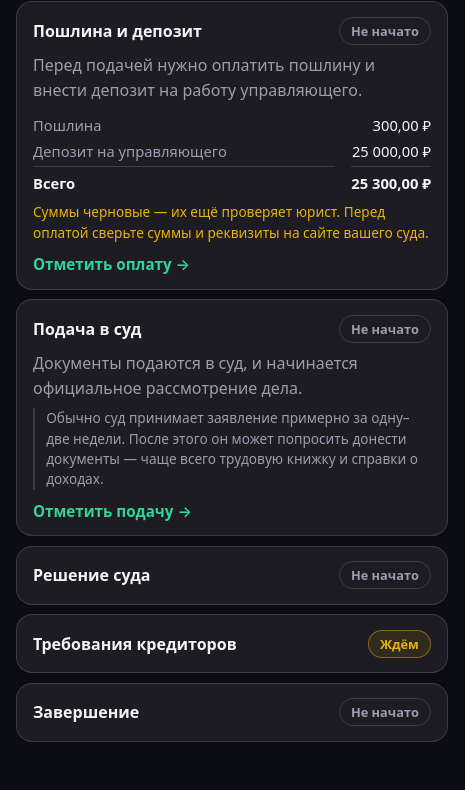
Test case: ProcedurePage › records a stage on the device and re-renders with the new status
(page scrolled)
Click the button "Решение суда Не начато" at [92, 575], box [33,561,431,589]
(page scrolled)
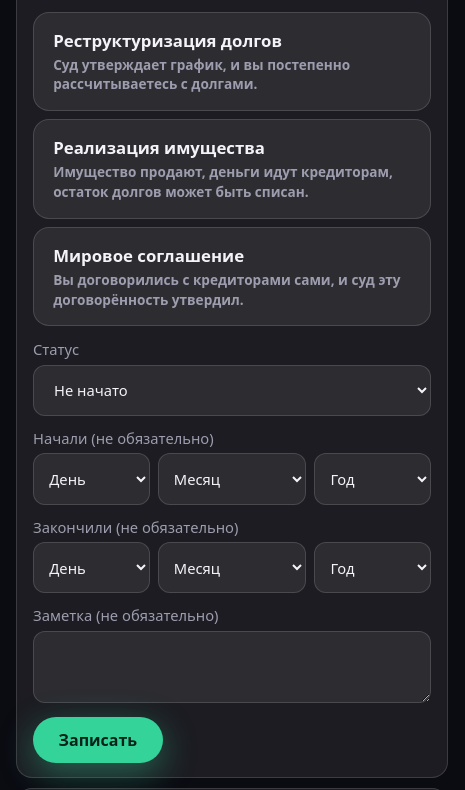
Select "В процессе" in the dropdown labelled "Статус" at [232, 390], box [33,365,431,416]
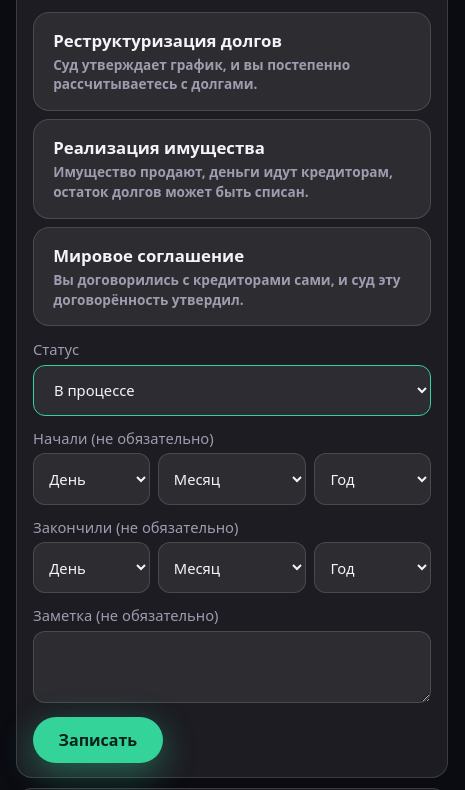
Select "5" in the dropdown named "Начали (не обязательно) — день" at [91, 479], box [33,454,150,505]
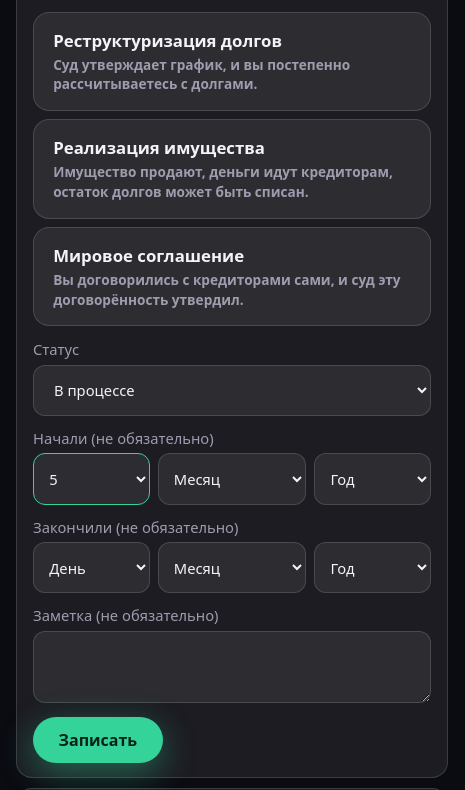
Select "Март" in the dropdown named "Начали (не обязательно) — месяц" at [232, 479], box [158,454,306,505]
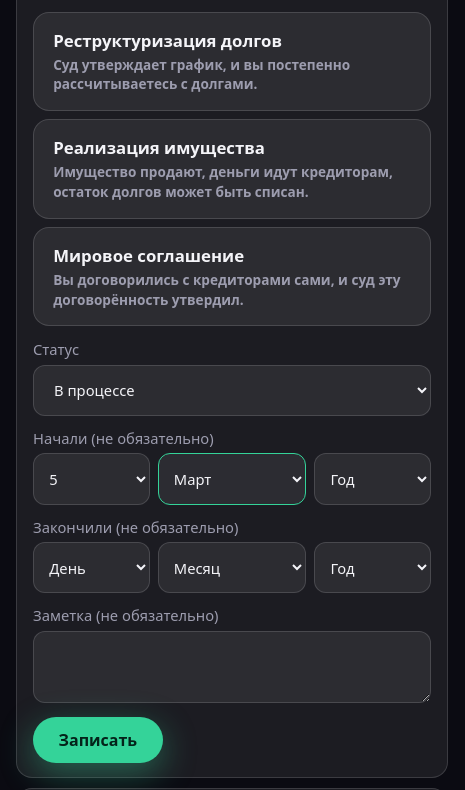
Select "2026" in the dropdown named "Начали (не обязательно) — год" at [373, 479], box [314,454,431,505]
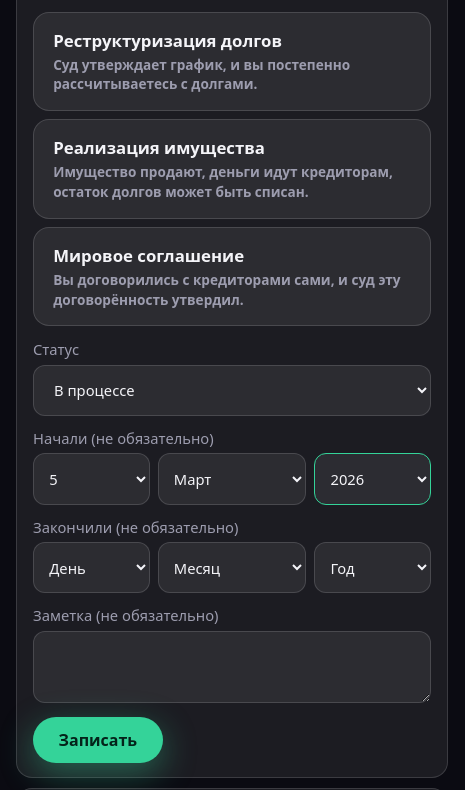
Click the button "Записать" at [98, 740], box [33,717,163,763]
(page scrolled)
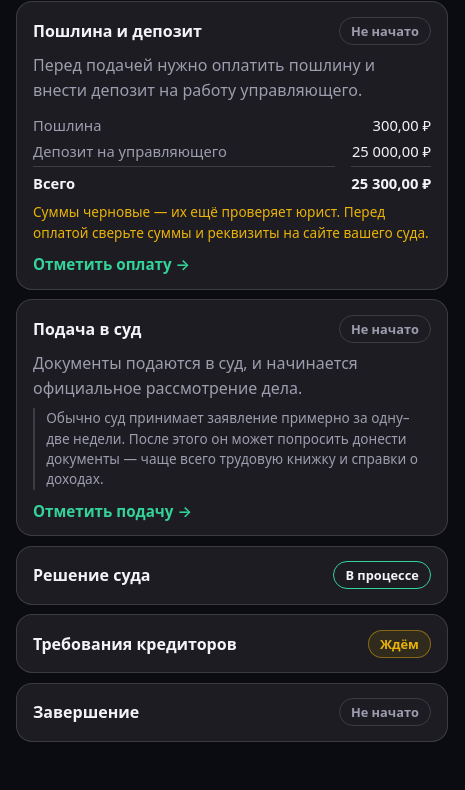
Result: the label labelled "Статус" is gone
Result: the text "В процессе" is shown at [333,561,431,589]
